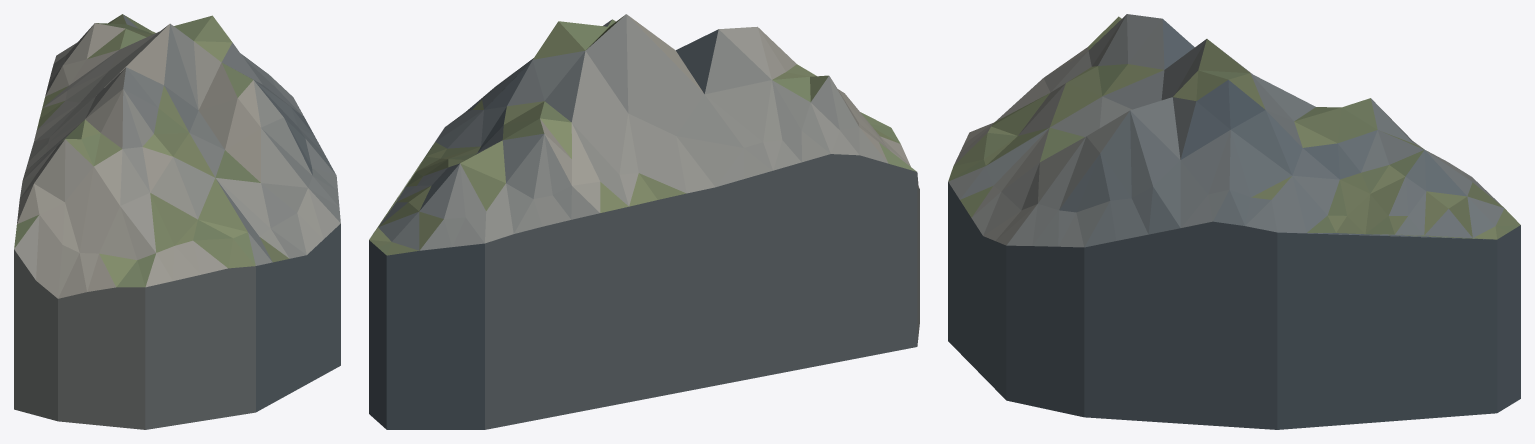
File: cliff_crown.glb
3 renders of one model, left to right at view 1: azimuth 30°, elevation 25°; view 2: azimuth 150°, elevation 25°; view 3: azimuth 270°, elevation 25°, orthographic. The views are drawn at different scales.
Visible parts, largest first — view 1: cliff_crown; view 2: cliff_crown; view 3: cliff_crown.
Boxes of the visible parts, <box> form: cliff_crown: <box>14,14,340,429</box>; cliff_crown: <box>369,14,919,429</box>; cliff_crown: <box>948,14,1520,429</box>.
Size of the model in its own units: 119 by 97 by 157.
